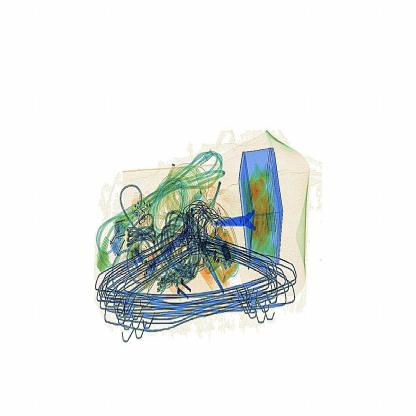gun: (212, 196, 286, 253)
